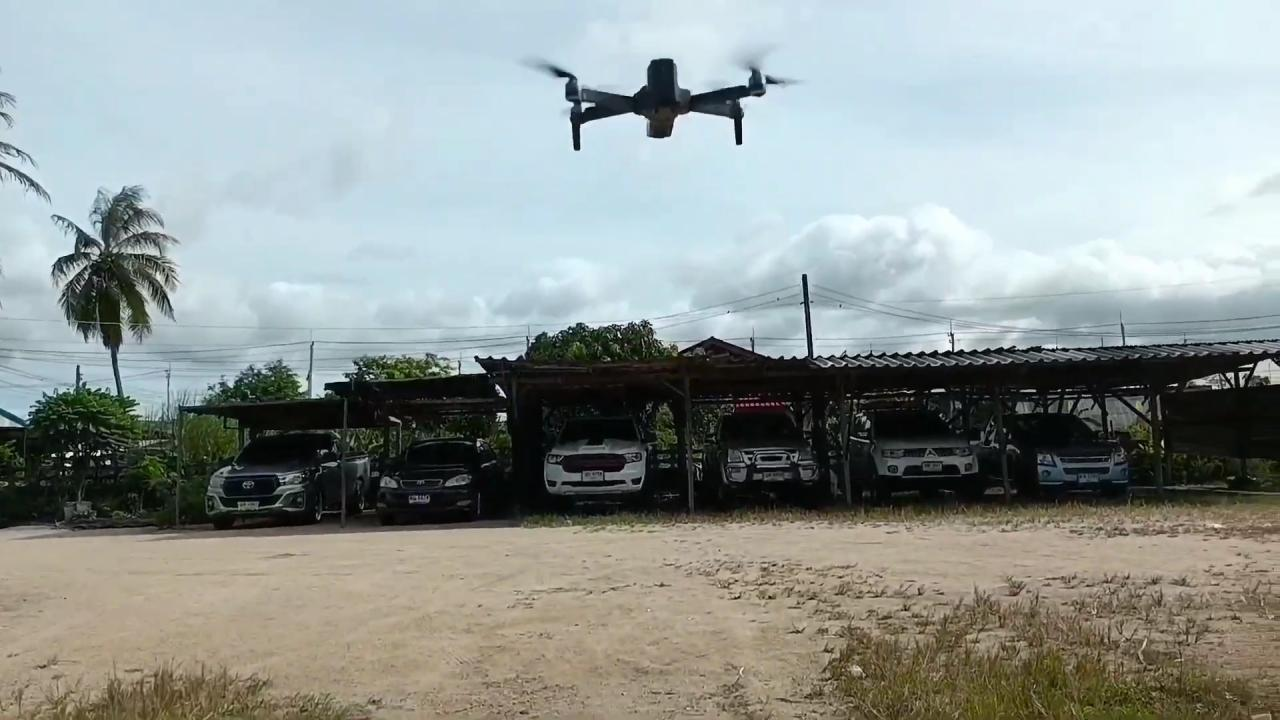Drone: (500, 23, 819, 165)
